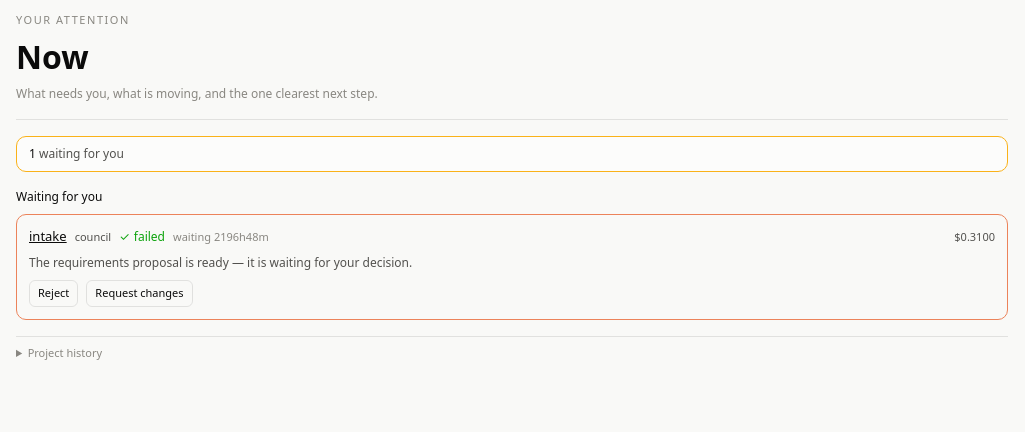
Test case: Now — the inbox › revises a failed intake through its stage and shows a refusal
Click the button with test id "now-request-changes" at (139, 293), box [86,280,192,306]
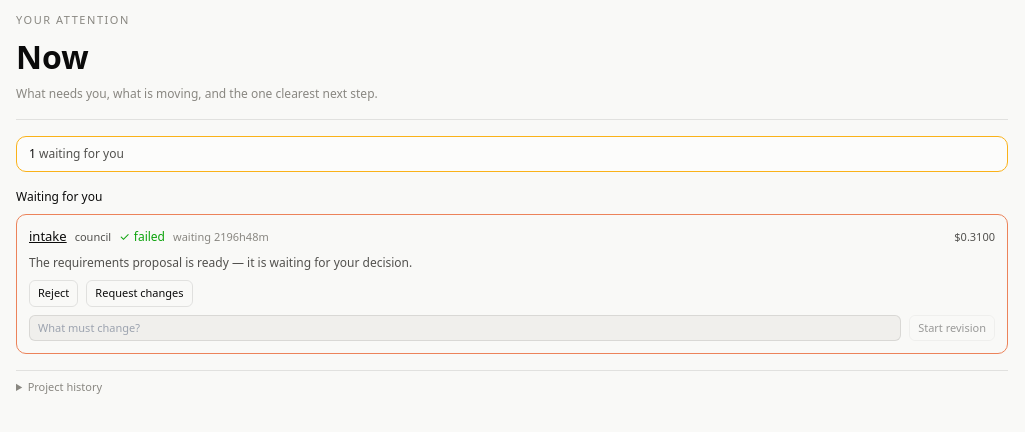
Type "REQ-008 invents behavior" into the field named "requested changes" at (465, 328), box [29,314,901,341]
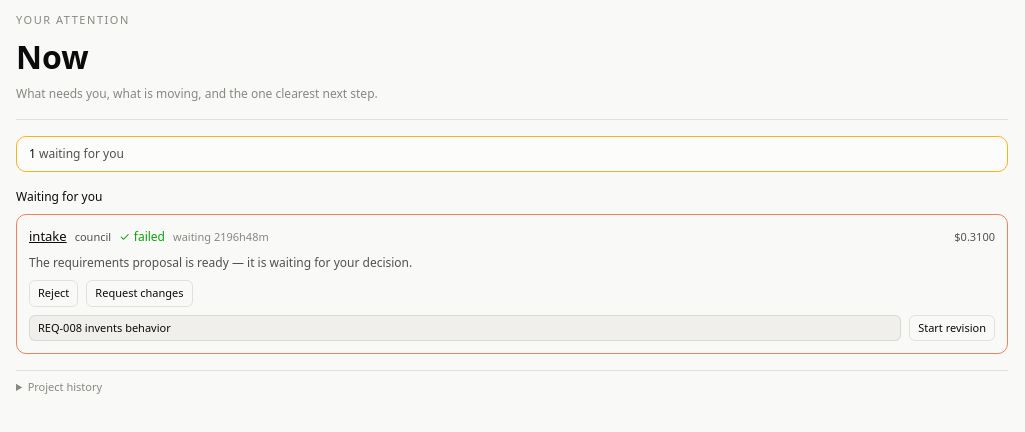
Click the button "Start revision" at (952, 328), box [909,314,995,341]
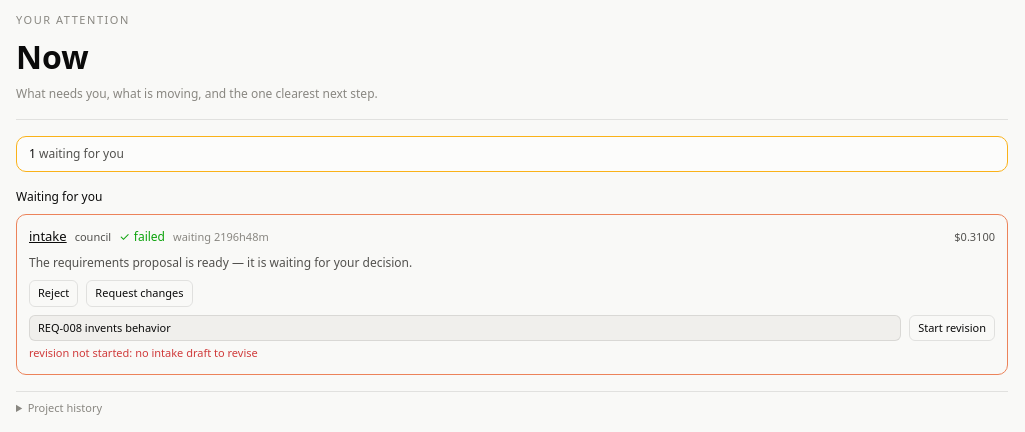
Check: the message with test id "now-request-changes-error" shows "no intake draft to revise", box [135,345,258,360]
